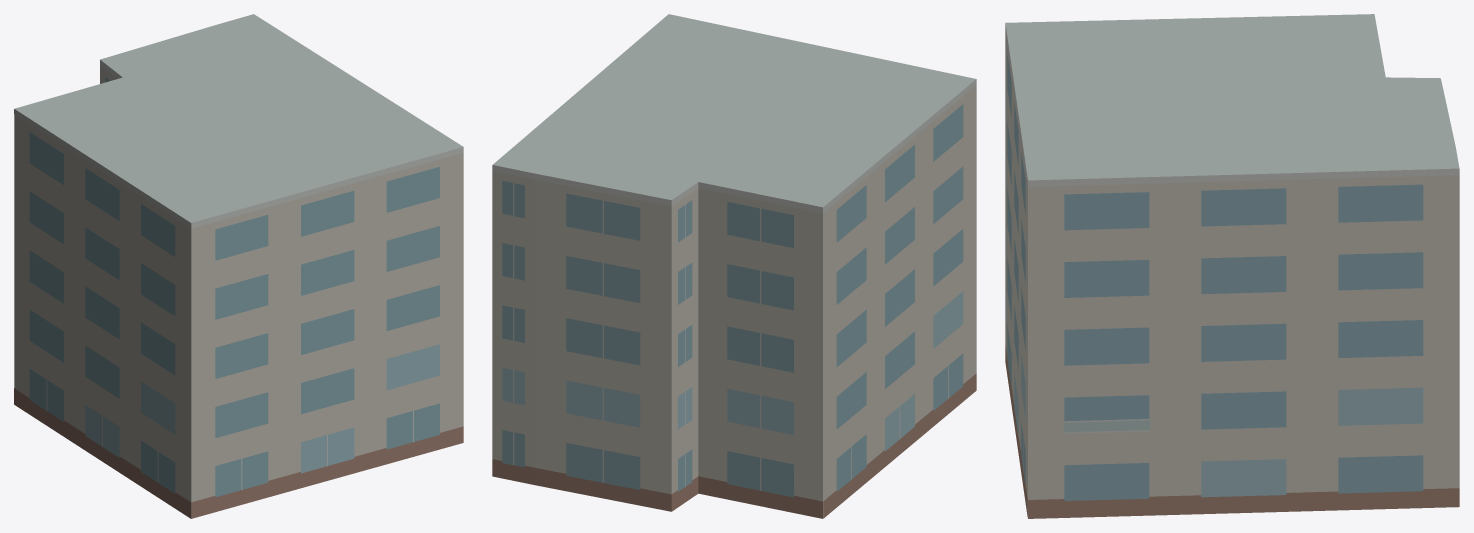
Rendered from survey-upis-32702527.glb.
3 renders of one model, left to right at view 1: azimuth 30°, elevation 25°; view 2: azimuth 150°, elevation 25°; view 3: azimuth 270°, elevation 25°, orthographic. The views are drawn at different scales.
Parts seen in each view (by area): view 1: survey-upis-32702527.tmp; view 2: survey-upis-32702527.tmp; view 3: survey-upis-32702527.tmp.
Boxes of the visible parts, bbox=[...] form: survey-upis-32702527.tmp: bbox=[14, 14, 463, 518]; survey-upis-32702527.tmp: bbox=[492, 14, 976, 518]; survey-upis-32702527.tmp: bbox=[1005, 14, 1459, 518].
Size of the model in its own units: 13.29 by 12.6 by 15.33.
